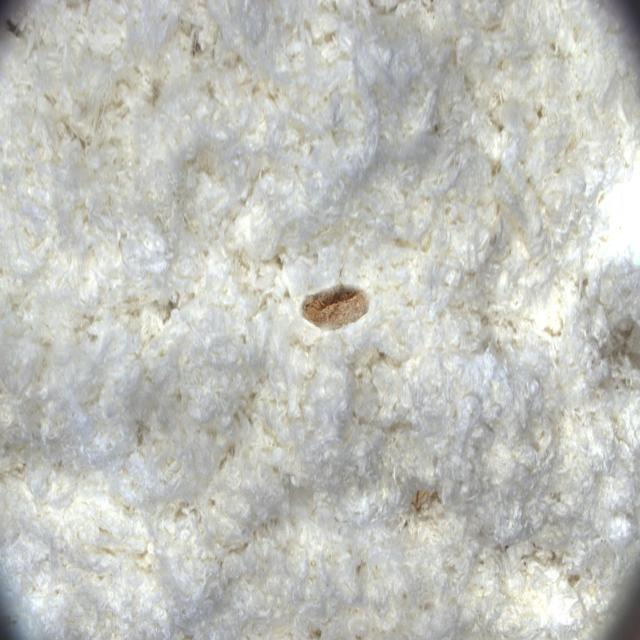dust: (272, 244, 388, 372)
